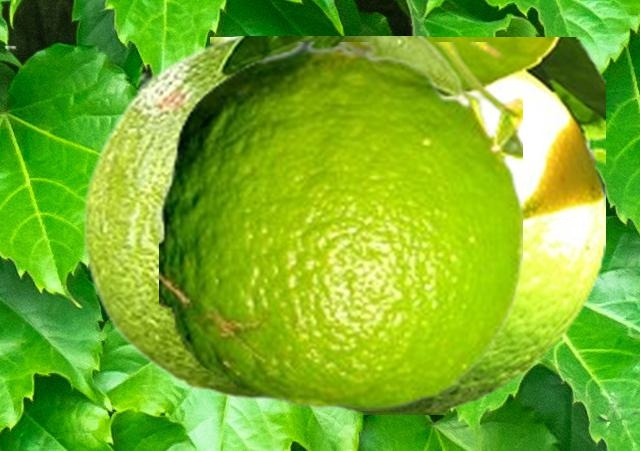dalandan: (210, 37, 604, 413), (82, 36, 463, 399), (159, 42, 521, 409)
